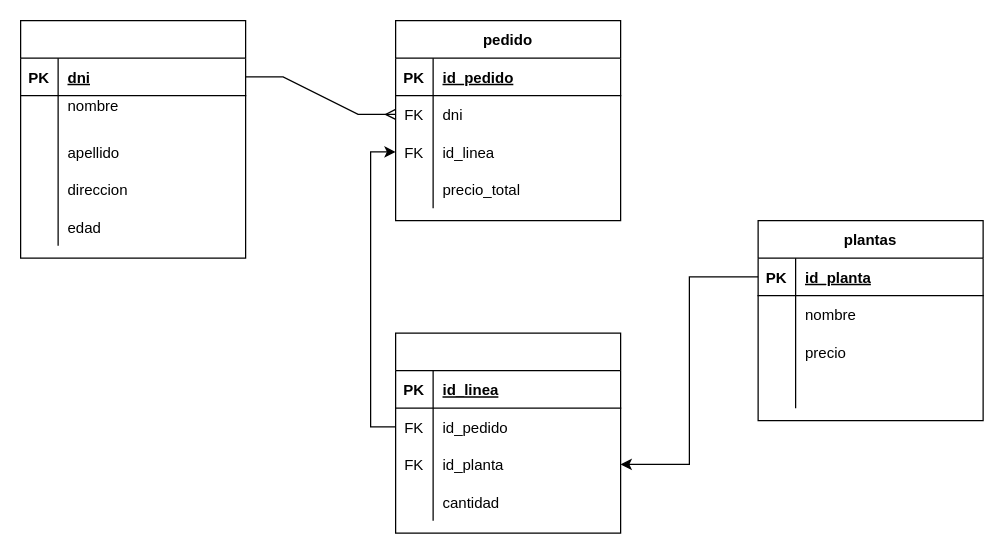
This 1004x554 diagram has some shape labels left out. Each missing label, with the box of its shape:
lineas_pedido: (394, 332, 621, 533)
personas: (19, 19, 246, 258)
